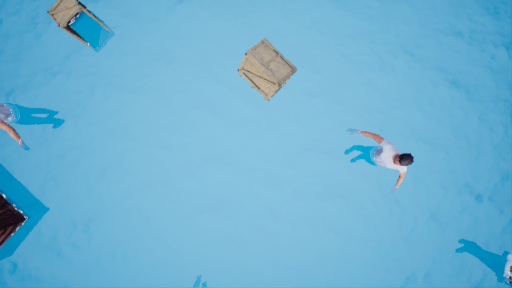person: (340, 128, 411, 190)
